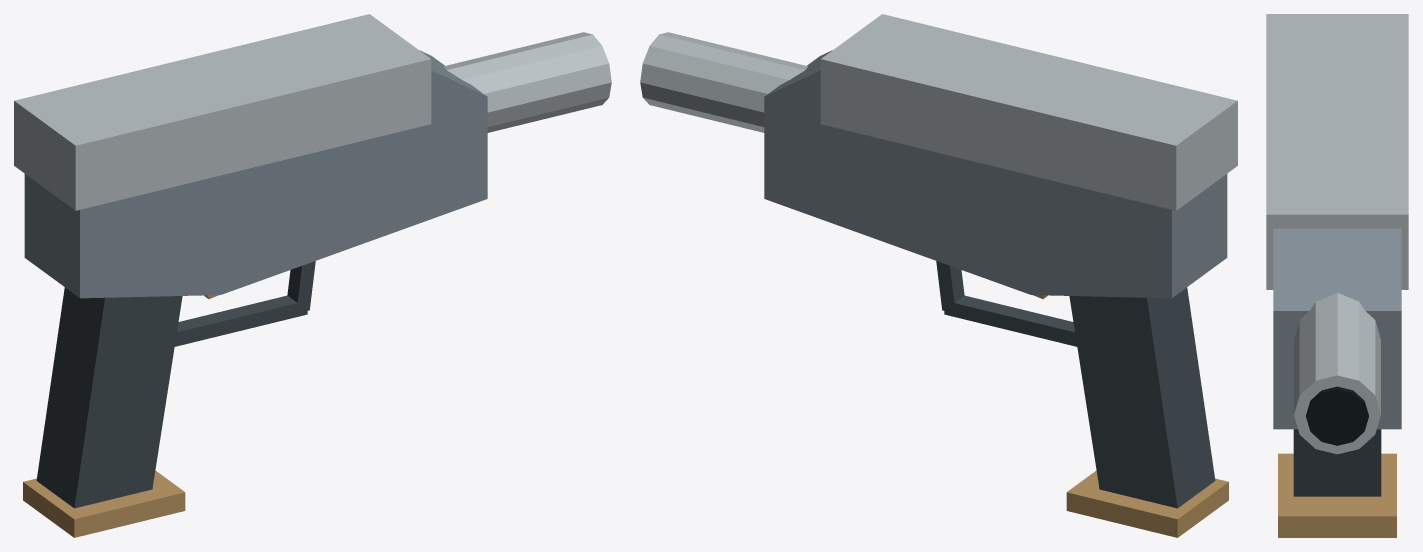
File: w01-vesper-static.glb
3 renders of one model, left to right at view 1: azimuth 30°, elevation 25°; view 2: azimuth 150°, elevation 25°; view 3: azimuth 270°, elevation 25°, orthographic. The views are drawn at different scales.
Visible parts, largest first — view 1: w01-vesper__receiver.001, w01-vesper__slide.001, w01-vesper__grip.001, w01-vesper__barrel.001, w01-vesper__magazine_toe.001, w01-vesper__guard_bottom.001, w01-vesper__guard_front.001; view 2: w01-vesper__receiver.001, w01-vesper__slide.001, w01-vesper__grip.001, w01-vesper__barrel.001, w01-vesper__magazine_toe.001, w01-vesper__guard_bottom.001, w01-vesper__guard_front.001; view 3: w01-vesper__slide.001, w01-vesper__receiver.001, w01-vesper__barrel.001, w01-vesper__magazine_toe.001, w01-vesper__grip.001, w01-vesper__barrel_bore.001.
Part boxes in pixels (bbox=[...]): w01-vesper__receiver.001: bbox=[24, 50, 487, 298]; w01-vesper__slide.001: bbox=[14, 14, 431, 210]; w01-vesper__grip.001: bbox=[36, 287, 182, 508]; w01-vesper__barrel.001: bbox=[444, 32, 611, 132]; w01-vesper__magazine_toe.001: bbox=[23, 470, 185, 537]; w01-vesper__guard_bottom.001: bbox=[174, 295, 307, 346]; w01-vesper__guard_front.001: bbox=[287, 261, 315, 311]; w01-vesper__receiver.001: bbox=[764, 50, 1227, 298]; w01-vesper__slide.001: bbox=[820, 14, 1237, 210]; w01-vesper__grip.001: bbox=[1069, 287, 1215, 508]; w01-vesper__barrel.001: bbox=[640, 32, 807, 132]; w01-vesper__magazine_toe.001: bbox=[1066, 470, 1228, 537]; w01-vesper__guard_bottom.001: bbox=[944, 295, 1077, 346]; w01-vesper__guard_front.001: bbox=[936, 261, 964, 311]; w01-vesper__slide.001: bbox=[1266, 14, 1408, 289]; w01-vesper__receiver.001: bbox=[1273, 228, 1401, 429]; w01-vesper__barrel.001: bbox=[1294, 293, 1380, 454]; w01-vesper__magazine_toe.001: bbox=[1278, 453, 1396, 537]; w01-vesper__grip.001: bbox=[1293, 429, 1381, 496]; w01-vesper__barrel_bore.001: bbox=[1306, 386, 1368, 445].
Bounding box in the file's own units: 0.373 × 0.256 × 0.072.
